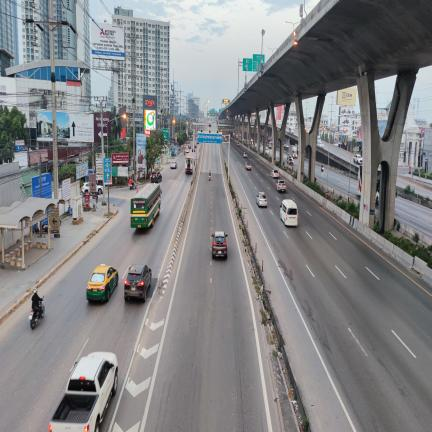bus: (130, 183, 161, 228)
car: (124, 264, 152, 301), (211, 231, 227, 258), (256, 192, 267, 207), (151, 171, 162, 183), (81, 182, 90, 194), (354, 154, 362, 165), (271, 169, 279, 178), (170, 161, 178, 169), (97, 185, 103, 195), (246, 161, 252, 170), (288, 159, 294, 167), (243, 152, 248, 158), (185, 147, 190, 153), (292, 153, 297, 159), (288, 155, 293, 161), (237, 142, 240, 146)
human: (32, 288, 42, 319)
motorbike: (29, 296, 45, 329), (129, 182, 137, 190), (321, 166, 324, 172), (209, 174, 211, 181), (184, 150, 185, 155)
pickup: (49, 352, 118, 432), (276, 179, 286, 192)
taxi: (86, 264, 118, 301)
truck: (185, 156, 193, 174)
van: (280, 200, 298, 226)
